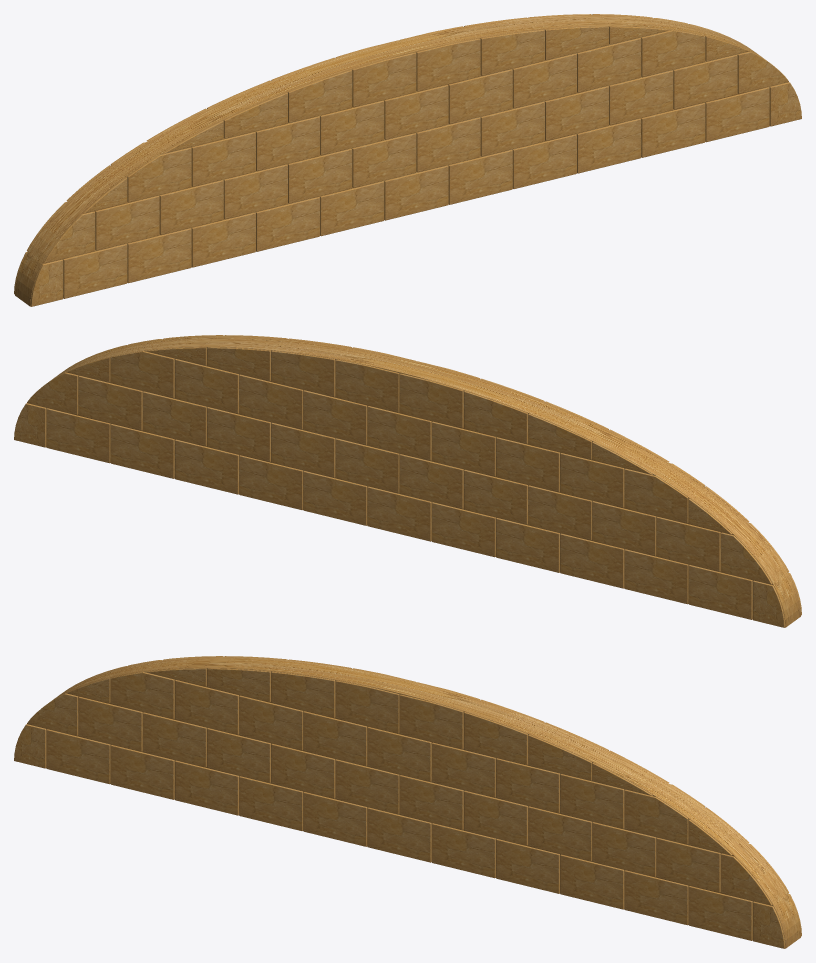
Rendered from SM_MoleControlV2_VaultEnd600.fbx.
The picture shows the model from 3 angles, top to bottom: view 1: azimuth 30°, elevation 25°; view 2: azimuth 150°, elevation 25°; view 3: azimuth 330°, elevation 25°; orthographic projection.
Visible parts, largest first — view 1: SM_MoleControlV2_VaultEnd600; view 2: SM_MoleControlV2_VaultEnd600; view 3: SM_MoleControlV2_VaultEnd600.
Boxes of the visible parts, x1,y1,x2,y2 form: SM_MoleControlV2_VaultEnd600: [14, 14, 801, 306]; SM_MoleControlV2_VaultEnd600: [14, 335, 801, 627]; SM_MoleControlV2_VaultEnd600: [14, 656, 801, 948].
Size of what is drawn, in the model's own units: 600 by 24 by 120.
